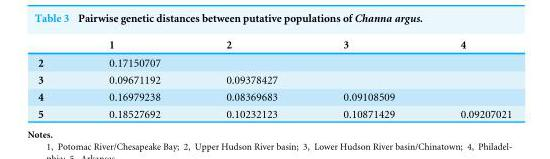table: (37, 36, 511, 120)
table column: (75, 36, 192, 120), (192, 36, 309, 120), (309, 36, 426, 120), (426, 36, 511, 120), (37, 36, 75, 120)
table column header: (37, 36, 511, 52)
table row: (37, 52, 511, 70), (37, 70, 511, 87), (37, 87, 511, 104), (37, 36, 511, 52), (37, 104, 511, 120)
